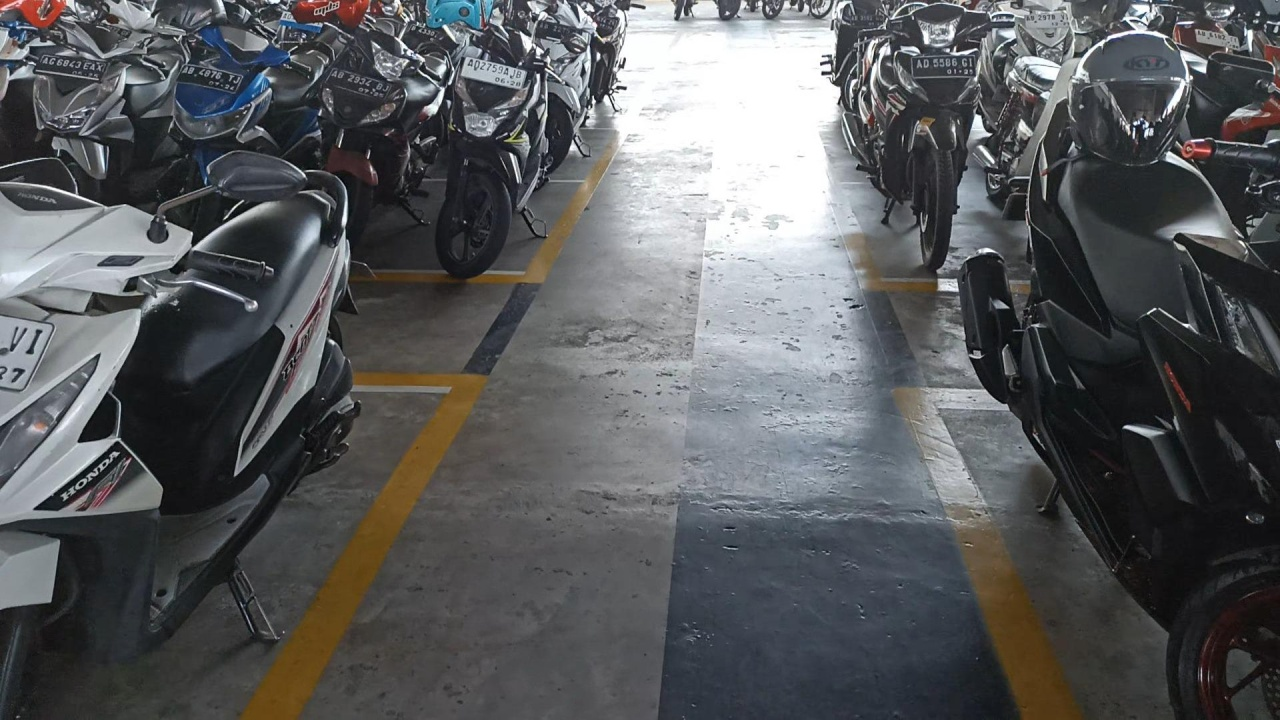plate: (460, 56, 529, 91), (324, 68, 393, 101), (34, 53, 107, 81), (175, 64, 243, 93), (911, 55, 977, 79)
